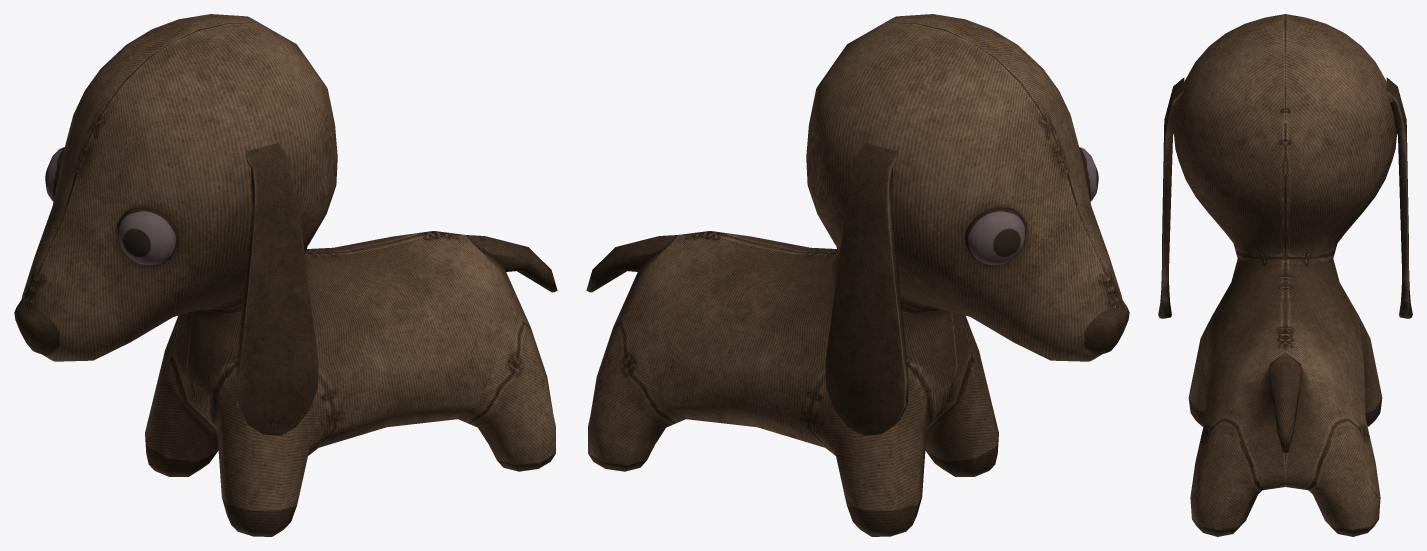
The model's file is SM_Stuffed_Toys_5.fbx.
3 renders of one model, left to right at view 1: azimuth 30°, elevation 25°; view 2: azimuth 150°, elevation 25°; view 3: azimuth 270°, elevation 25°, orthographic. The views are drawn at different scales.
Parts seen in each view (by area): view 1: SM_Stuffed_Toys_5; view 2: SM_Stuffed_Toys_5; view 3: SM_Stuffed_Toys_5.
Part boxes in pixels (x1,y1,x2,y2): SM_Stuffed_Toys_5: (14,14,557,536); SM_Stuffed_Toys_5: (586,14,1129,536); SM_Stuffed_Toys_5: (1158,14,1412,536).
Size of the model in its own units: 55.7 by 27.6 by 46.81.
Materials: 1 (1 with a texture image).
